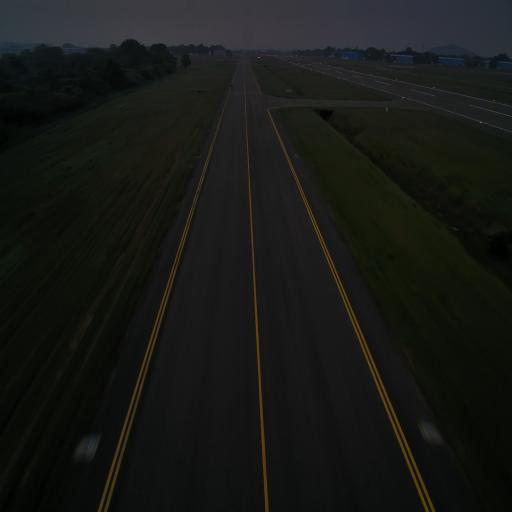on: (84, 430, 98, 453), (422, 416, 435, 437), (199, 152, 201, 157), (294, 152, 296, 156)
